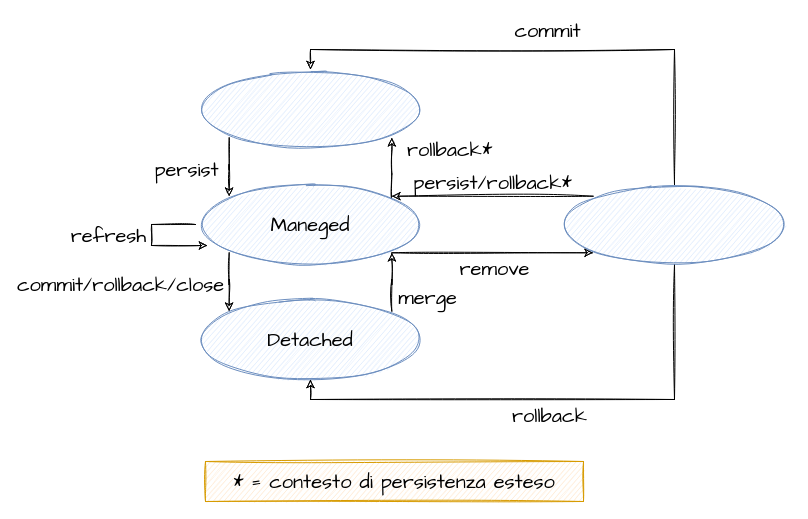
This 808x519 diagram has some shape labels left out. Each missing label, with the centre of its shape:
New/Transient: (x=310, y=109)
Removed: (x=674, y=224)
